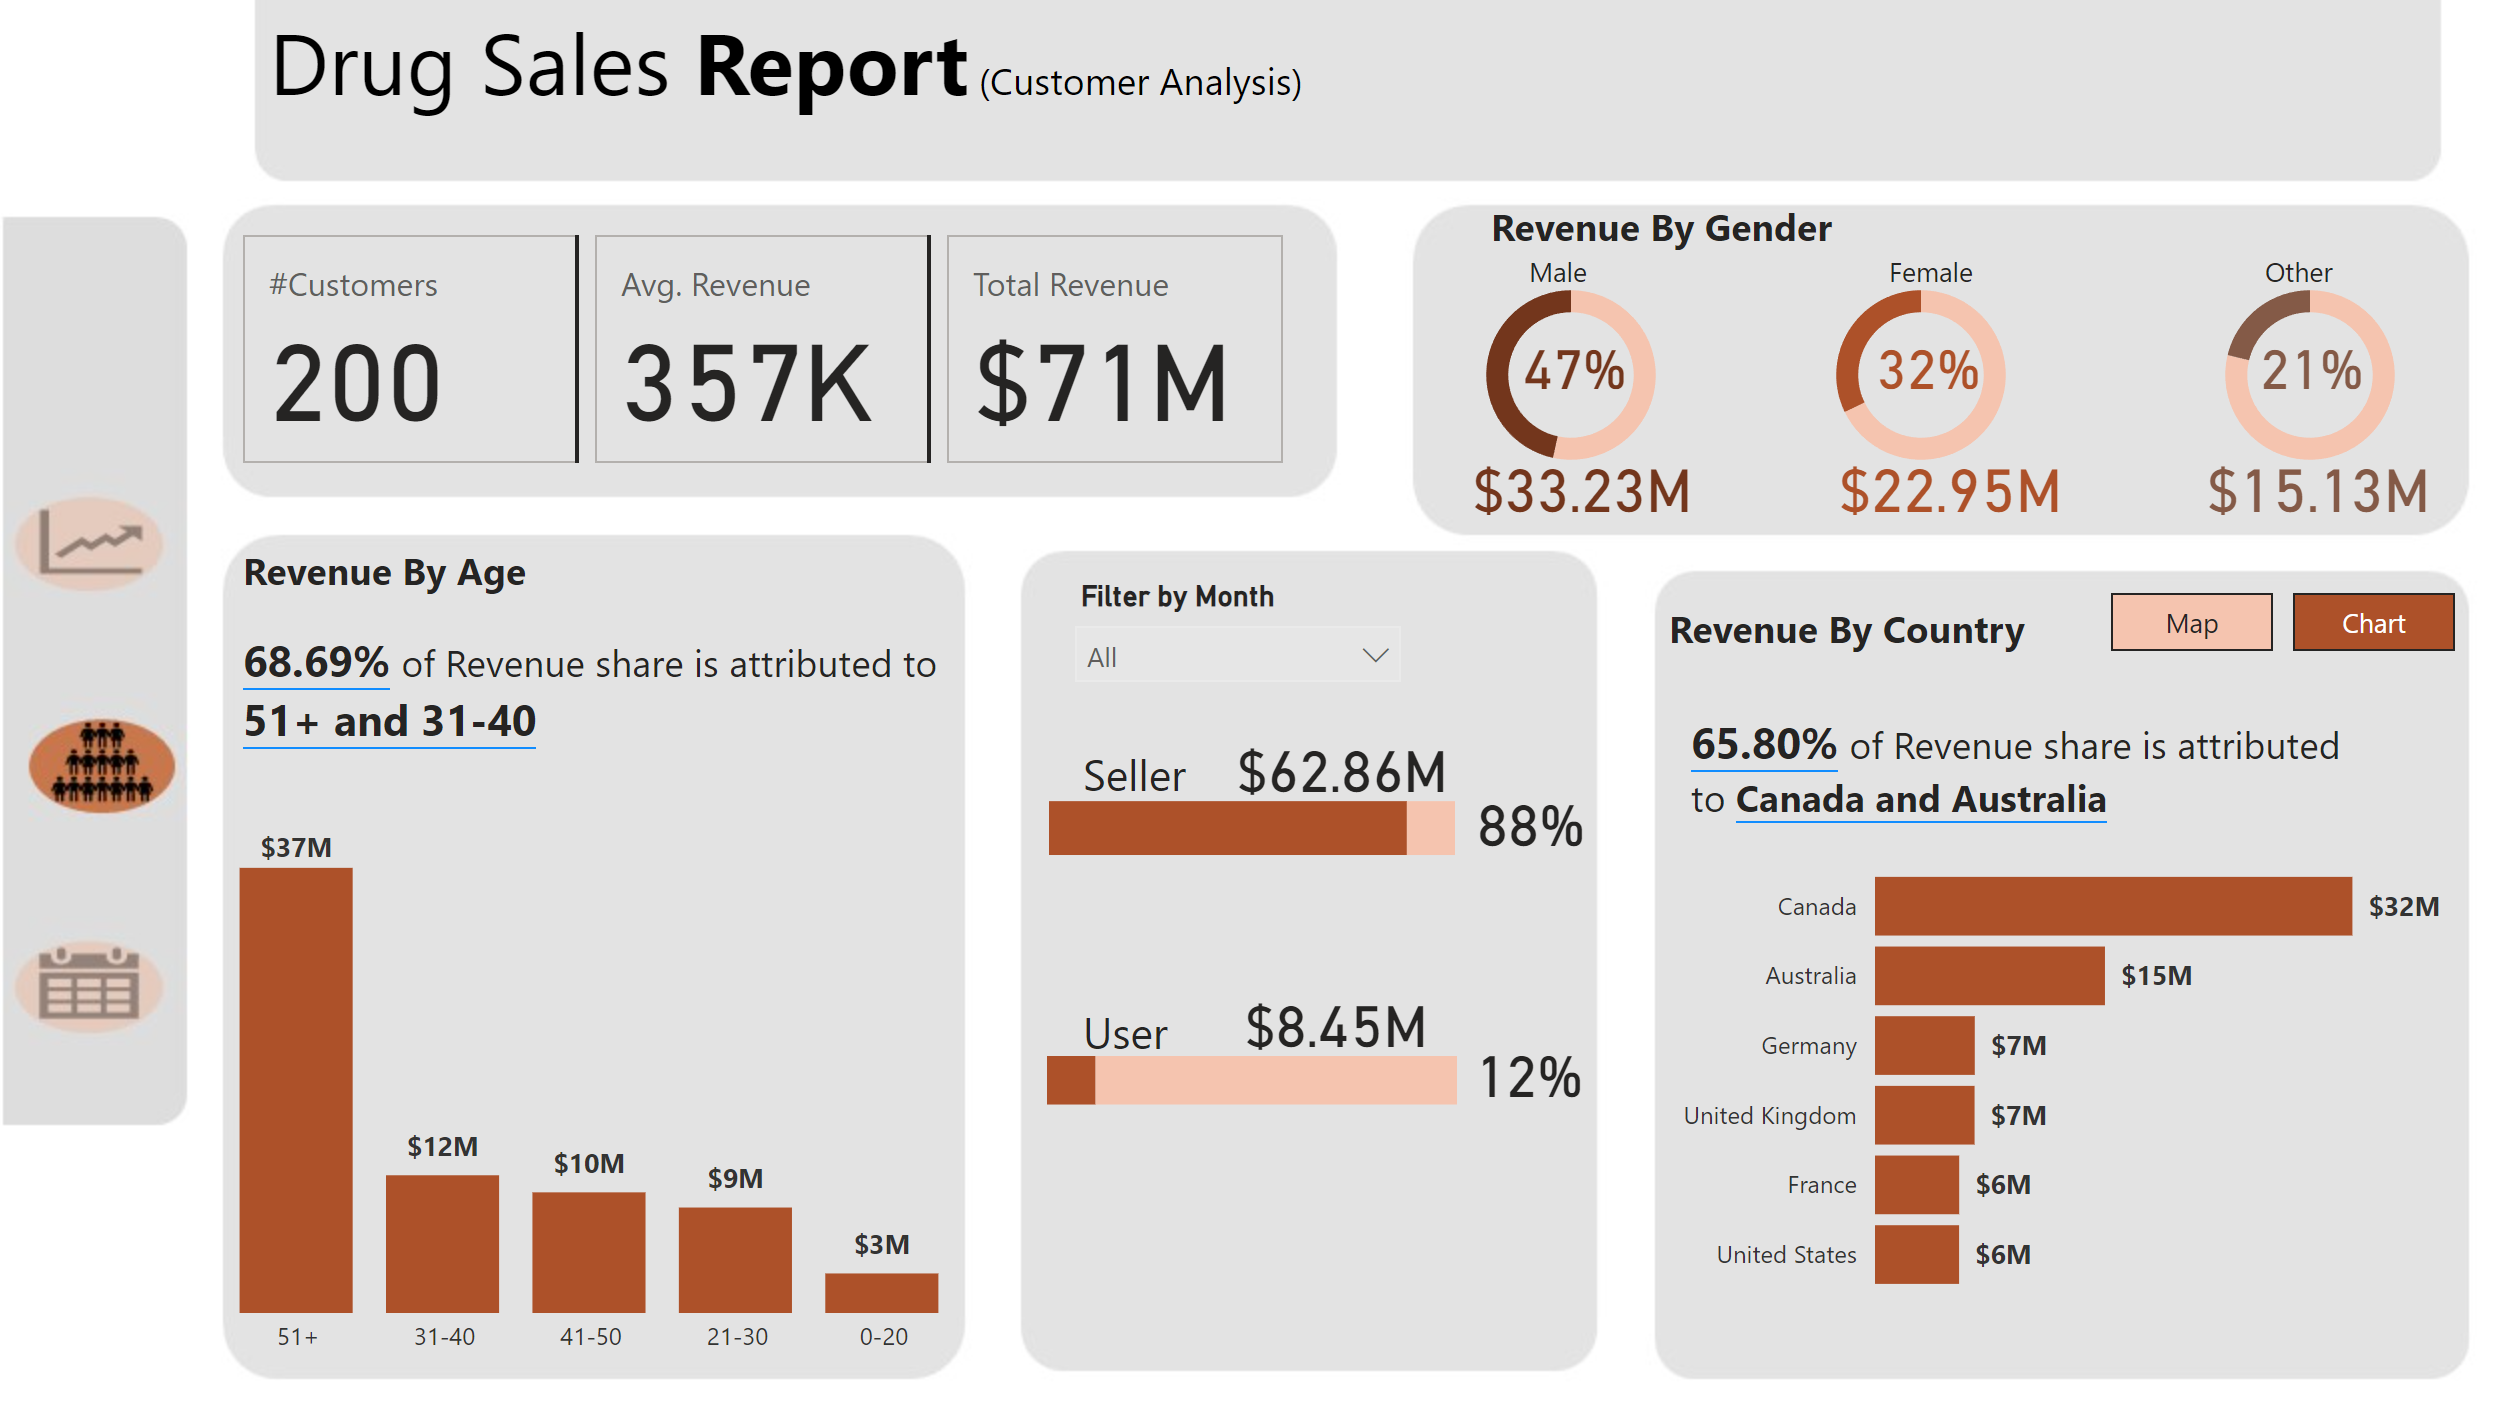

The dashboard page shown, as its layout file describes it:
{"tool":"powerbi","page":{"name":"Customers","canvas":[1280,720],"ordinal":1},"visuals":[{"type":"donutChart","title":"Male ","fields":{"Y":["Active Measure.R:Male","Active Measure.% Male Revenue"]},"box":[694.7,133,184.7,115.9],"z":0},{"type":"cardVisual","fields":{"Data":["Calculations.#Customers","Calculations.Avg. Revenue","Calculations.Total Revenue"]},"box":[118,116,531,124],"z":2000},{"type":"clusteredBarChart","title":"Chart Country","fields":{"Y":["Calculations.Total Revenue"],"Category":["CustomerTable.Country"]},"box":[831,415,398,250],"z":3000},{"type":"donutChart","fields":{"Y":["Active Measure.R: Other","Active Measure.% Others Revenue"]},"box":[1045,133,222.7,115.9],"z":4000},{"type":"card","fields":{"Values":["Active Measure.% Others Revenue"]},"box":[1112,160,91.4,52.5],"z":5000},{"type":"card","fields":{"Values":["Active Measure.% Male Revenue"]},"box":[756.2,154.6,66.1,63.4],"z":6000},{"type":"donutChart","fields":{"Y":["Active Measure.R:Female","Active Measure.% Female Revenue"]},"box":[865.3,133,193.7,115.9],"z":7000},{"type":"card","fields":{"Values":["Active Measure.% Female Revenue"]},"box":[930,155,72,63],"z":8000},{"type":"card","fields":{"Values":["Calculations.Male Rev"]},"box":[724,225,136.7,44.4],"z":9000},{"type":"card","fields":{"Values":["Active Measure.Female Revenue"]},"box":[908.2,225,136.7,44.4],"z":10000},{"type":"card","fields":{"Values":["Active Measure.Others Revenue"]},"box":[1092.4,225,136.7,44.4],"z":11000},{"type":"textbox","box":[760.6,125,52.5,40.7],"z":12000},{"type":"textbox","box":[940.7,125,60.7,40.7],"z":13000},{"type":"textbox","box":[1129,125,52.5,40.7],"z":14000},{"type":"columnChart","fields":{"Y":["Calculations.Total Revenue"],"Category":["CustomerTable.Age Group"]},"box":[92,408,410,282],"z":15000},{"type":"textbox","box":[118,314,381,74],"z":16000},{"type":"barChart","fields":{"Y":["Calculations.%User Revenue","Calculations.R: User"]},"box":[520,486,215,109],"z":17000},{"type":"textbox","box":[538,500,68,44],"z":18000},{"type":"card","fields":{"Values":["Calculations.User Revenue"]},"box":[606,486,127,58],"z":19000},{"type":"barChart","fields":{"Y":["Calculations.% Seller Revenue","Calculations.R: Seller"]},"box":[521,355,213,119],"z":20000},{"type":"textbox","box":[538,371,71,44],"z":21000},{"type":"card","fields":{"Values":["Calculations.Seller Revenue"]},"box":[609,367,127,41],"z":22000},{"type":"card","fields":{"Values":["Calculations.% Seller Revenue"]},"box":[734,388,66,53],"z":23000},{"type":"card","fields":{"Values":["Calculations.%User Revenue"]},"box":[733,521,66,38],"z":24000},{"type":"bookmarkNavigator","box":[1057,300,172,29],"z":25000},{"type":"textbox","box":[842,355,340,65],"z":26000},{"type":"textbox","box":[742,99,318,46],"z":27000},{"type":"textbox","box":[831,300,202,46],"z":28000},{"type":"textbox","box":[118,271,164,46],"z":29000},{"type":"textbox","box":[131,0,535,73],"z":30000},{"type":"slicer","fields":{"Values":["Calender.Month"]},"box":[529,288,183,58],"z":31000},{"type":"actionButton","box":[0,450,101,72],"z":32000},{"type":"actionButton","box":[0,323,101,78],"z":33000},{"type":"actionButton","box":[0,218,101,71],"z":34000}]}

Visuals, with their boxes in screenshot pixels (x1, y1, x2, y2), scaled from the page's 1280x720 canvas onto the 2499x1405 screenshot:
"Male " donutChart: [left=1356, top=260, right=1717, bottom=486]
cardVisual - Calculations.#Customers x Calculations.Avg. Revenue: [left=230, top=226, right=1267, bottom=468]
"Chart Country" clusteredBarChart: [left=1622, top=810, right=2399, bottom=1298]
donutChart - Active Measure.R: Other x Active Measure.% Others Revenue: [left=2040, top=260, right=2475, bottom=486]
card - Active Measure.% Others Revenue: [left=2171, top=312, right=2349, bottom=415]
card - Active Measure.% Male Revenue: [left=1476, top=302, right=1605, bottom=425]
donutChart - Active Measure.R:Female x Active Measure.% Female Revenue: [left=1689, top=260, right=2068, bottom=486]
card - Active Measure.% Female Revenue: [left=1816, top=302, right=1956, bottom=425]
card - Calculations.Male Rev: [left=1413, top=439, right=1680, bottom=526]
card - Active Measure.Female Revenue: [left=1773, top=439, right=2040, bottom=526]
card - Active Measure.Others Revenue: [left=2133, top=439, right=2400, bottom=526]
textbox: [left=1485, top=244, right=1587, bottom=323]
textbox: [left=1837, top=244, right=1955, bottom=323]
textbox: [left=2204, top=244, right=2307, bottom=323]
columnChart - Calculations.Total Revenue x CustomerTable.Age Group: [left=180, top=796, right=980, bottom=1346]
textbox: [left=230, top=613, right=974, bottom=757]
barChart - Calculations.%User Revenue x Calculations.R: User: [left=1015, top=948, right=1435, bottom=1161]
textbox: [left=1050, top=976, right=1183, bottom=1062]
card - Calculations.User Revenue: [left=1183, top=948, right=1431, bottom=1062]
barChart - Calculations.% Seller Revenue x Calculations.R: Seller: [left=1017, top=693, right=1433, bottom=925]
textbox: [left=1050, top=724, right=1189, bottom=810]
card - Calculations.Seller Revenue: [left=1189, top=716, right=1437, bottom=796]
card - Calculations.% Seller Revenue: [left=1433, top=757, right=1562, bottom=861]
card - Calculations.%User Revenue: [left=1431, top=1017, right=1560, bottom=1091]
bookmarkNavigator: [left=2064, top=585, right=2399, bottom=642]
textbox: [left=1644, top=693, right=2308, bottom=820]
textbox: [left=1449, top=193, right=2069, bottom=283]
textbox: [left=1622, top=585, right=2017, bottom=675]
textbox: [left=230, top=529, right=551, bottom=619]
textbox: [left=256, top=0, right=1300, bottom=142]
slicer - Calender.Month: [left=1033, top=562, right=1390, bottom=675]
actionButton: [left=0, top=878, right=197, bottom=1019]
actionButton: [left=0, top=630, right=197, bottom=783]
actionButton: [left=0, top=425, right=197, bottom=564]
